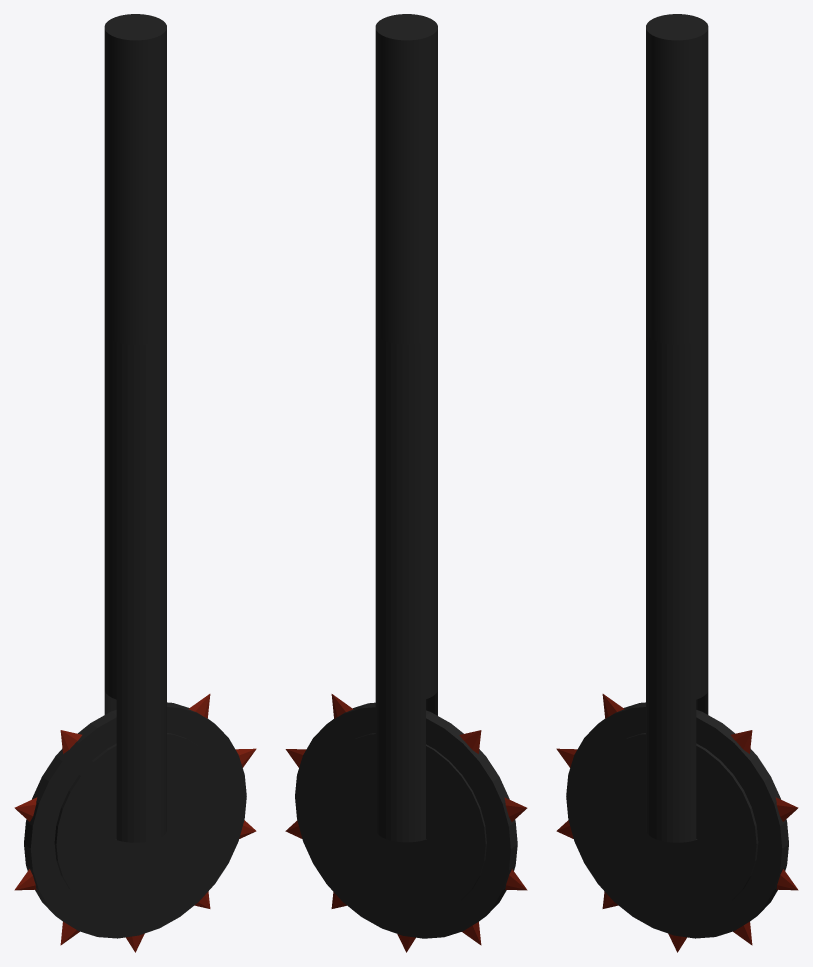
File: obstaclehighspike.fbx
3 renders of one model, left to right at view 1: azimuth 30°, elevation 25°; view 2: azimuth 150°, elevation 25°; view 3: azimuth 330°, elevation 25°, orthographic.
Parts seen in each view (by area): view 1: Cylinder.006, Cylinder.001, Cylinder, Icosphere.002; view 2: Cylinder.006, Cylinder.001, Cylinder, Icosphere.002; view 3: Cylinder.006, Cylinder.001, Cylinder, Icosphere.002.
Part boxes in pixels (left/top/right/bottom): Cylinder.006: left=104, top=14, right=166, bottom=842; Cylinder.001: left=54, top=733, right=224, bottom=914; Cylinder: left=24, top=702, right=246, bottom=938; Icosphere.002: left=14, top=694, right=256, bottom=952; Cylinder.006: left=375, top=14, right=437, bottom=842; Cylinder.001: left=317, top=733, right=486, bottom=913; Cylinder: left=295, top=702, right=517, bottom=938; Icosphere.002: left=285, top=694, right=527, bottom=952; Cylinder.006: left=646, top=14, right=708, bottom=842; Cylinder.001: left=588, top=733, right=758, bottom=914; Cylinder: left=566, top=702, right=788, bottom=938; Icosphere.002: left=556, top=694, right=798, bottom=952.
Size of the model in its own units: 190 by 694 by 42.6.
4 materials, 4 textured.
